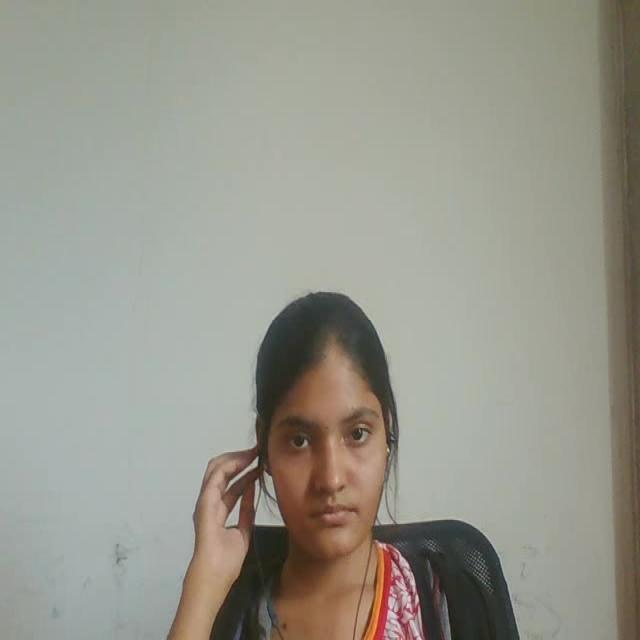Engaged: (229, 244, 419, 569)
